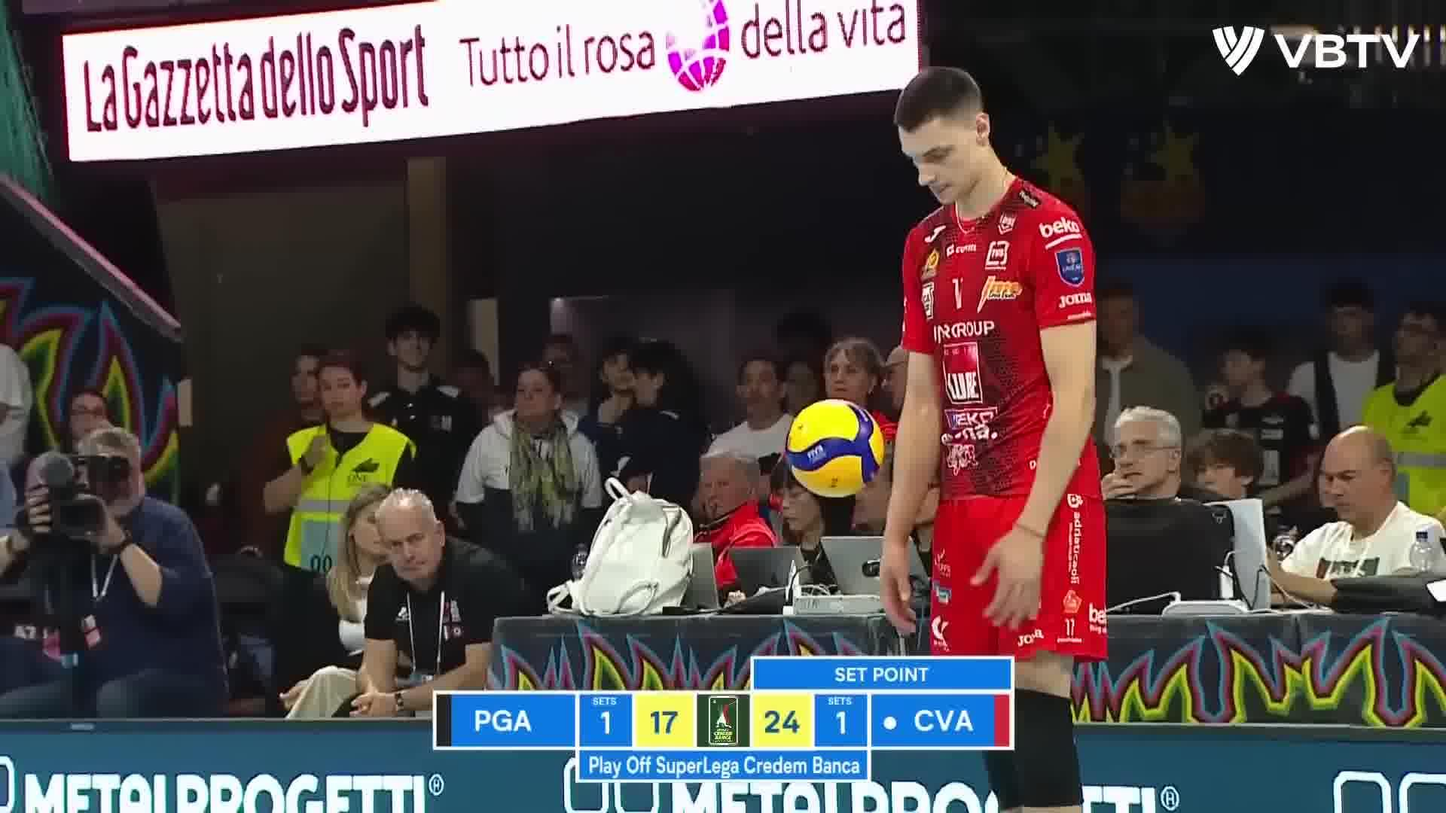balls: (779, 390, 889, 503)
